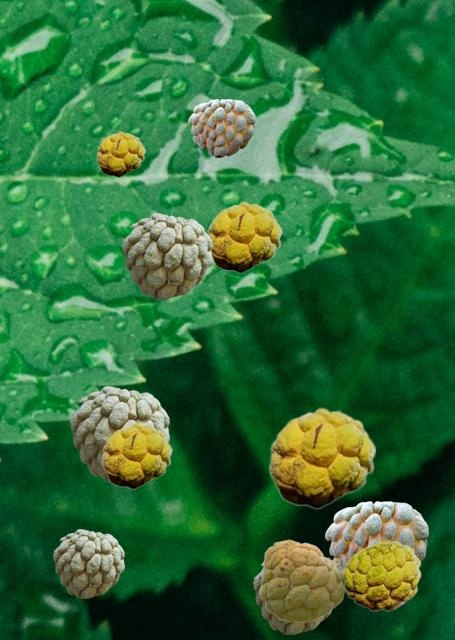atis: (268, 407, 375, 508), (70, 386, 168, 480), (122, 213, 211, 298), (325, 501, 427, 571), (259, 539, 343, 621), (253, 562, 332, 633), (341, 540, 420, 610), (207, 201, 281, 272), (53, 529, 123, 597), (101, 422, 171, 488), (188, 99, 254, 156), (96, 131, 144, 176)
